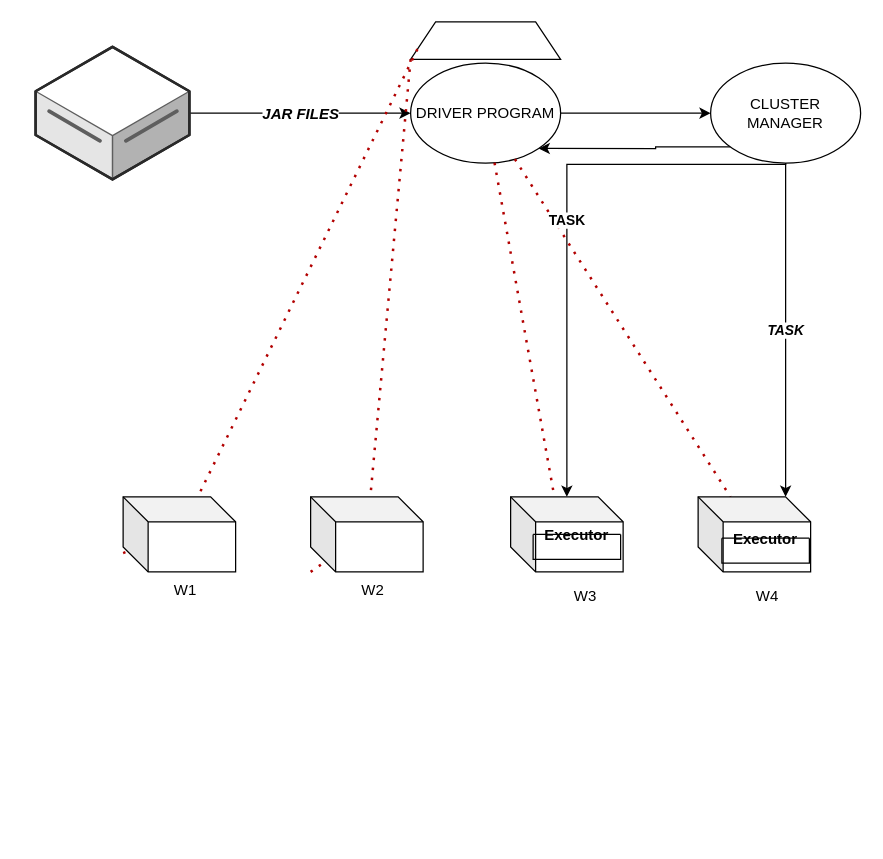
This 883x859 diagram has some shape labels left out. The centre of each missing label's shape, as x and y in pixels:
"CLIENT NODE" belongs at point 111,112.
"SPARK MASTER" belongs at point 485,40.
